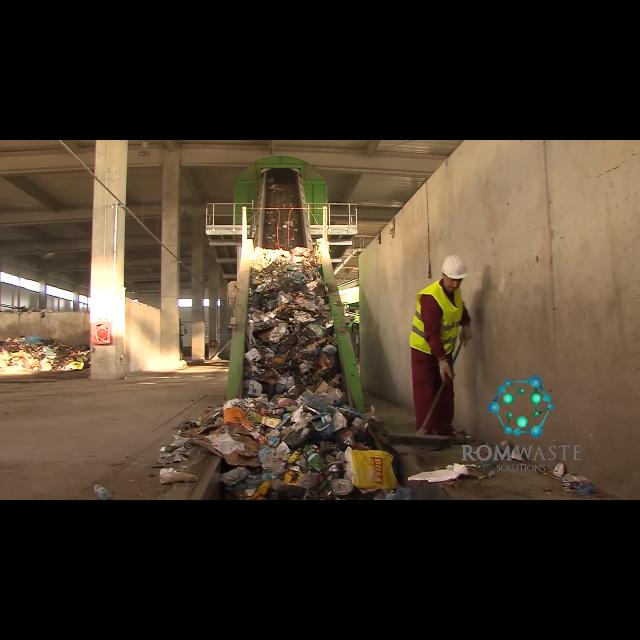trash: (302, 442, 326, 476)
